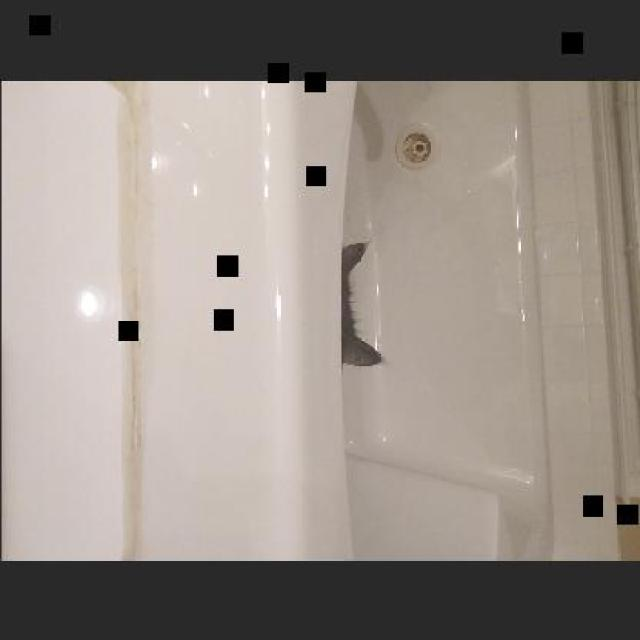unauthorized: (340, 239, 382, 366)
